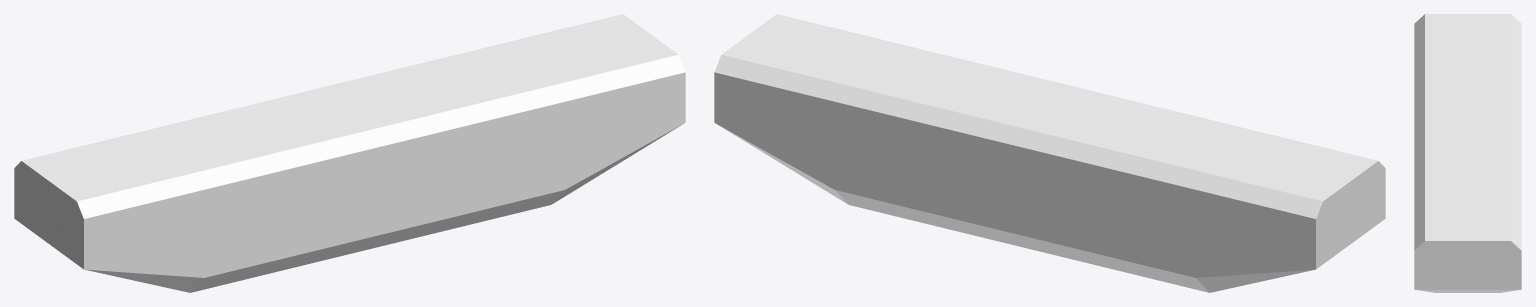
File: Paddle.fbx
3 views of the same model, side by side, from view 1: azimuth 30°, elevation 25°; view 2: azimuth 150°, elevation 25°; view 3: azimuth 270°, elevation 25° (orthographic). The views are drawn at different scales.
Parts seen in each view (by area): view 1: Paddle.001; view 2: Paddle.001; view 3: Paddle.001.
Part boxes in pixels (x1,y1,x2,y2): Paddle.001: (14,14,685,292); Paddle.001: (714,14,1385,292); Paddle.001: (1414,14,1521,292).
Bounding box in the file's own units: 500 × 100 × 100.
